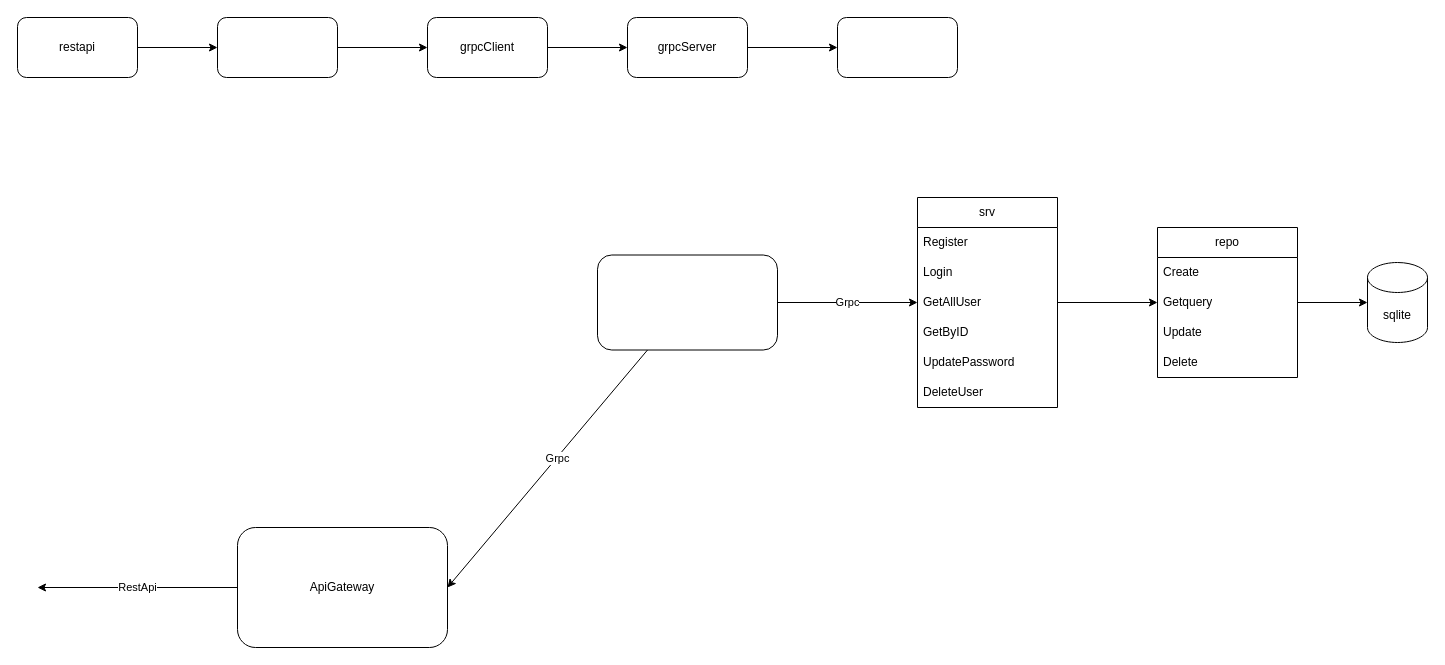
The diagram is 1445 pixels wide and 665 high, and some of its shapes have lost their labels. The centre of each missing label's shape, as x and y in pixels:
"repository" belongs at point 897,47.
"services" belongs at point 277,47.
"UserSrv" belongs at point 687,302.
